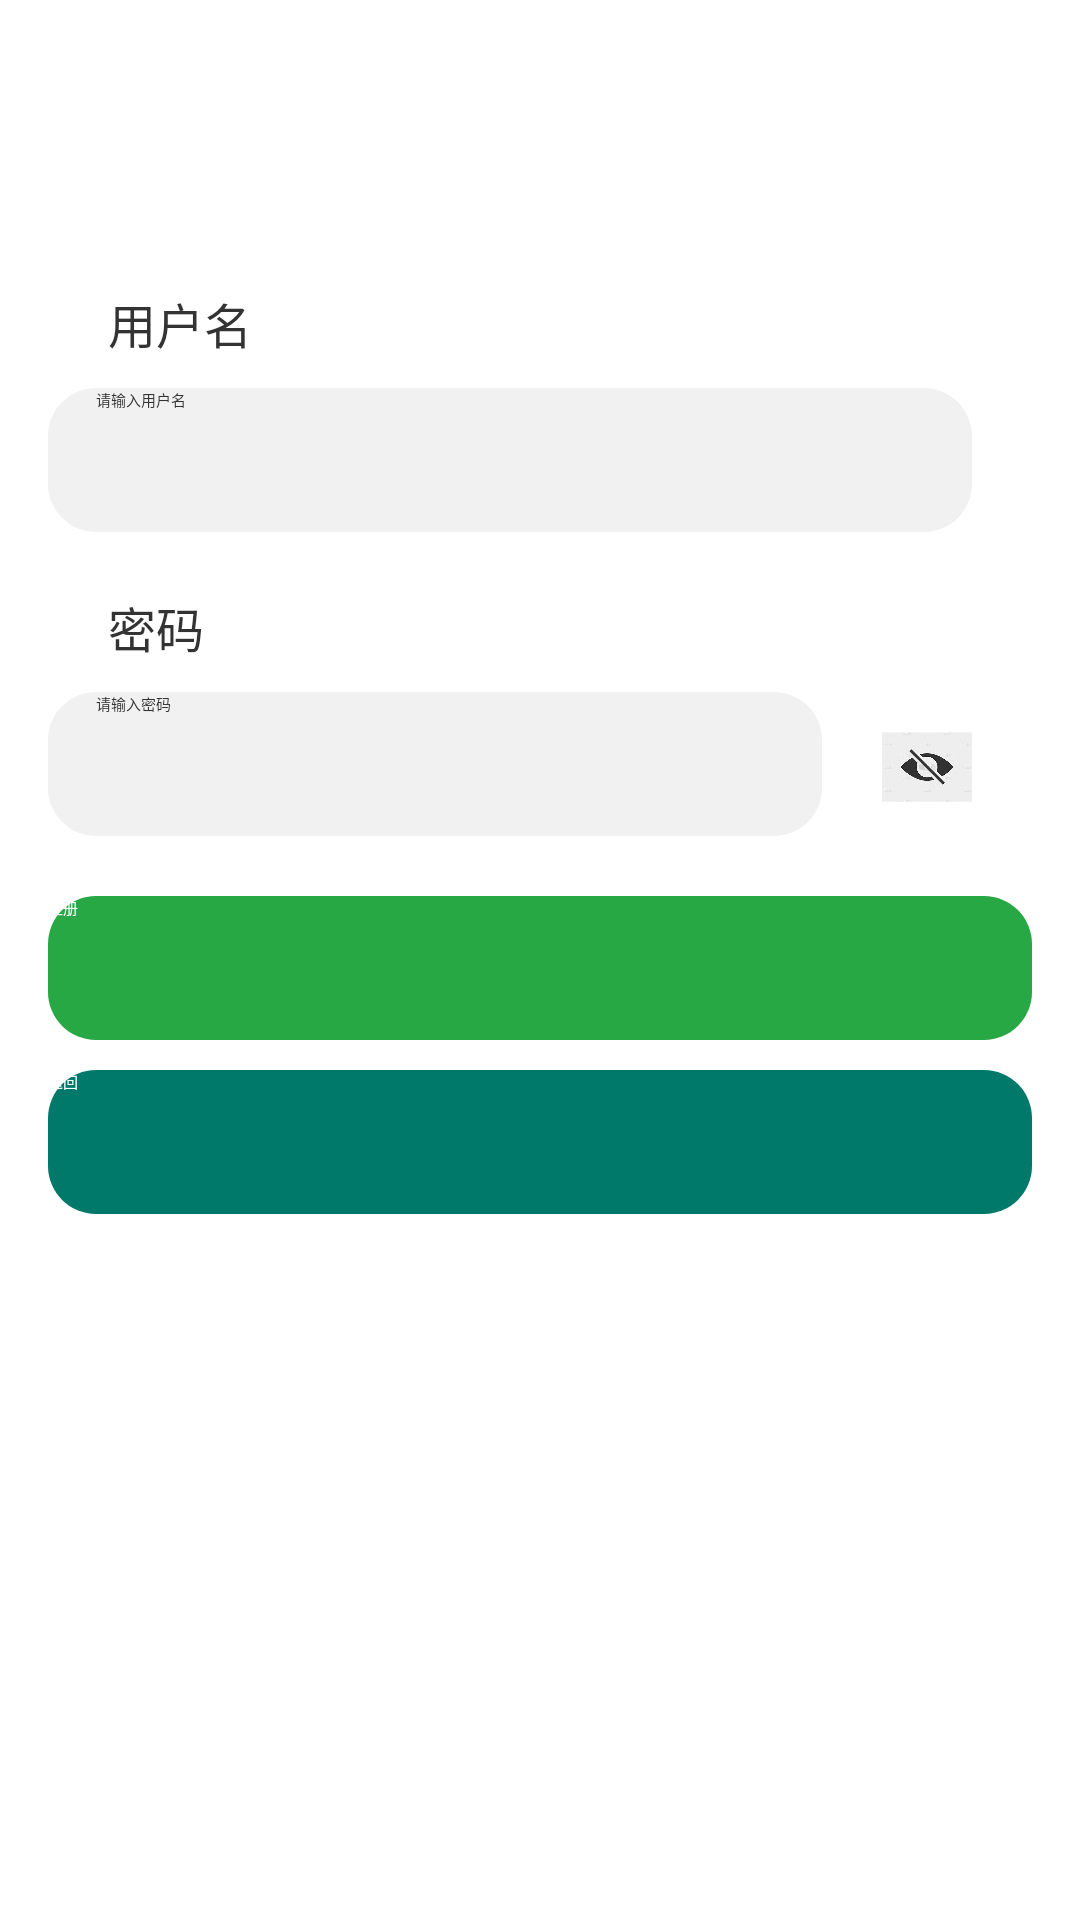

Icon click points for this 1080 × 1920 phone screenshot, format (x=x, y=y):
眼睛图标: (x=927, y=767)
